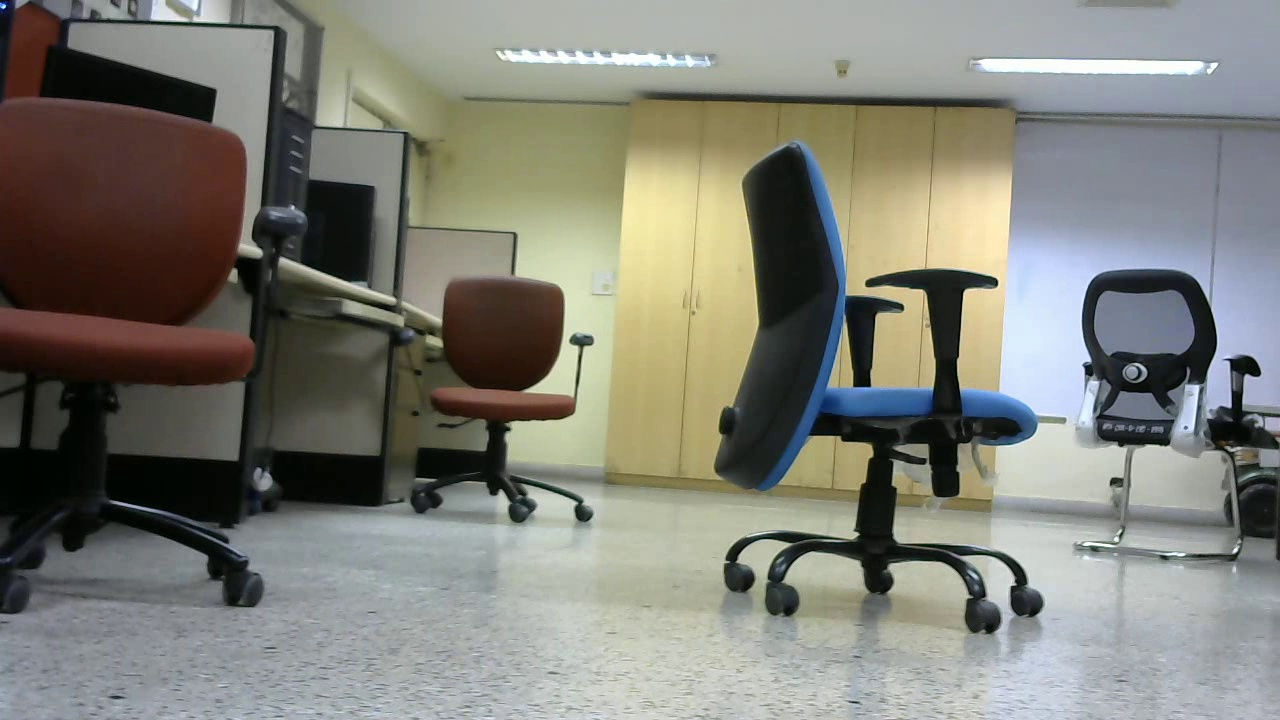chair: (677, 97, 1049, 632), (1, 96, 267, 616), (408, 276, 601, 526)
